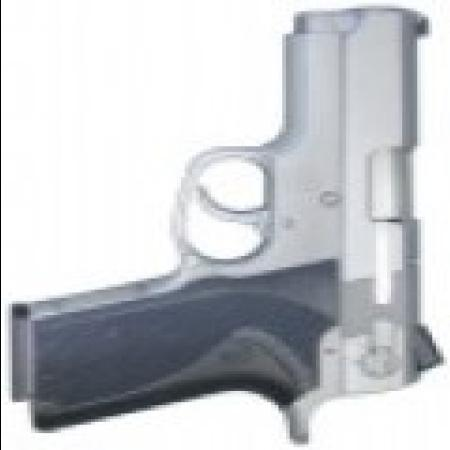Pistol: (22, 14, 446, 444)
